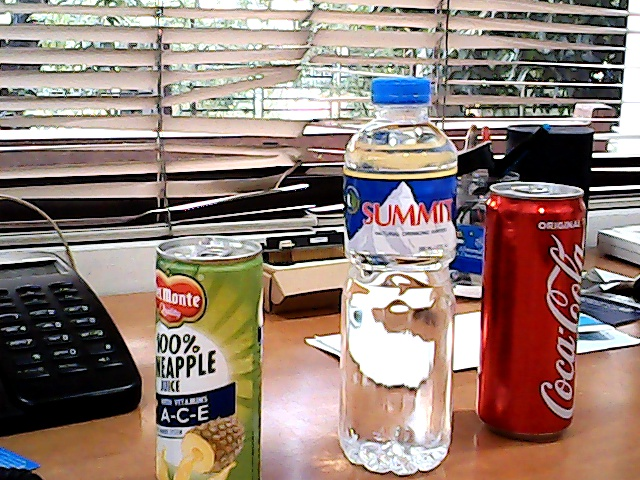Cola: (470, 162, 593, 461)
Pine Juice: (137, 226, 285, 480)
Summit Water: (305, 60, 471, 480)
